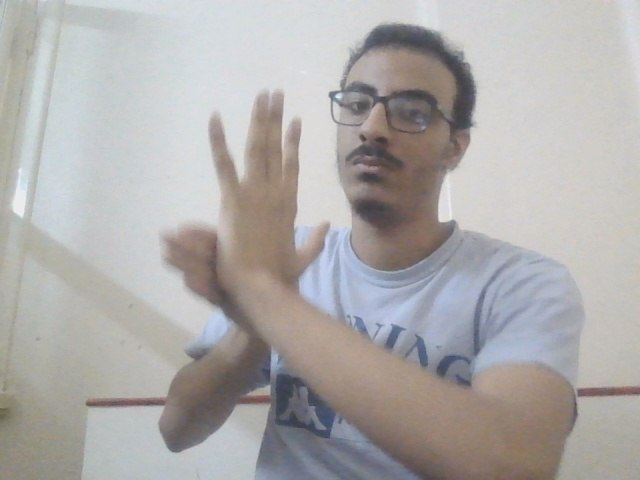Movie: (155, 84, 337, 325)
